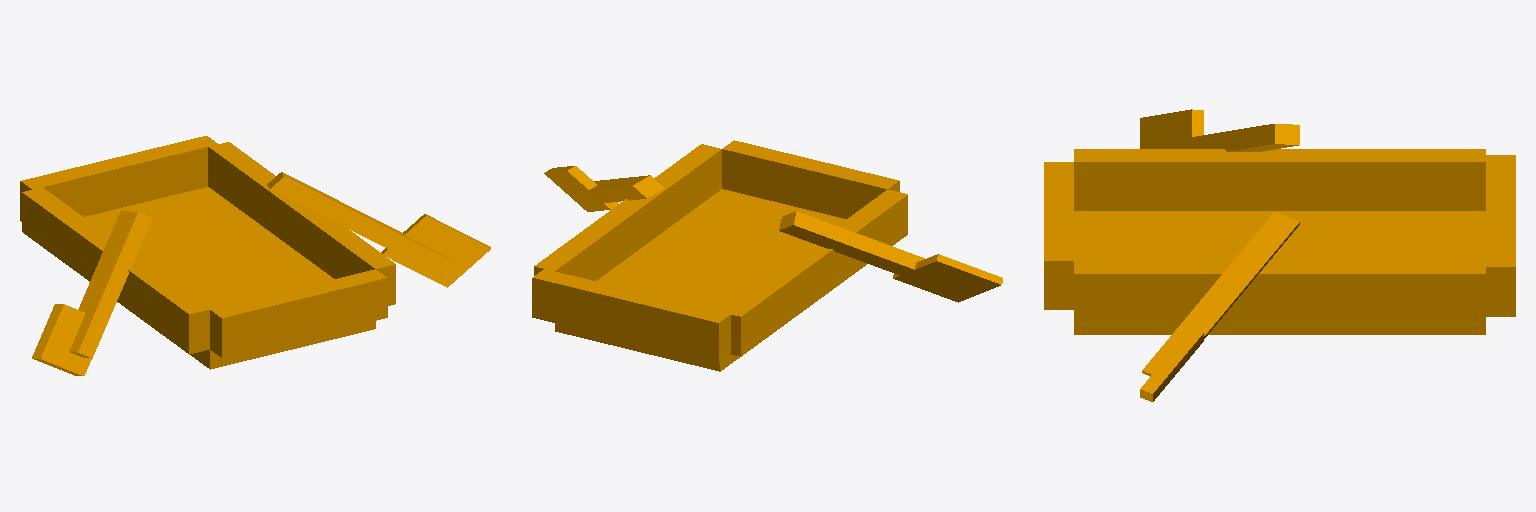
robot.urdf — boat_with_passenger_slots:
<?xml version="1.0"?>
<robot name="boat_with_passenger_slots">
    <link name="base_link">
        <inertial>
            <mass value="1.0"/>
            <inertia ixx="1.0" ixy="0.0" ixz="0.0" iyy="1.0" iyz="0.0" izz="1.0"/>
        </inertial>
        <visual>
            <origin rpy="1.5708 0 0"/>
            <geometry><mesh filename="boat.obj" scale="0.13 0.08 0.13"/></geometry>
        </visual>
        <collision>
            <origin rpy="1.5708 0 0"/>
            <geometry><mesh filename="boat.obj" scale="0.13 0.08 0.13"/></geometry>
        </collision>
    </link>

    <!-- Passenger/Item Slots -->
    <link name="wolf_slot"><inertial><mass value="0.001"/><inertia ixx="0.001" ixy="0.0" ixz="0.0" iyy="0.001" iyz="0.0" izz="0.001"/></inertial></link>
    <link name="sheep_slot"><inertial><mass value="0.001"/><inertia ixx="0.001" ixy="0.0" ixz="0.0" iyy="0.001" iyz="0.0" izz="0.001"/></inertial></link>
    <link name="steve_slot"><inertial><mass value="0.001"/><inertia ixx="0.001" ixy="0.0" ixz="0.0" iyy="0.001" iyz="0.0" izz="0.001"/></inertial></link>
    <link name="grass_slot"><inertial><mass value="0.001"/><inertia ixx="0.001" ixy="0.0" ixz="0.0" iyy="0.001" iyz="0.0" izz="0.001"/></inertial></link>

    <!-- Slot Joints -->
    <joint name="wolf_slot_joint" type="fixed"><parent link="base_link"/><child link="wolf_slot"/><origin xyz="0.02 -0.02 0.02"/></joint>
    <joint name="sheep_slot_joint" type="fixed"><parent link="base_link"/><child link="sheep_slot"/><origin xyz="-0.02 0.02 0.02"/></joint>
    <joint name="steve_slot_joint" type="fixed"><parent link="base_link"/><child link="steve_slot"/><origin xyz="-0.02 -0.02 0.02"/></joint>
    <joint name="grass_slot_joint" type="fixed"><parent link="base_link"/><child link="grass_slot"/><origin xyz="0.02 0.02 0.02"/></joint>
</robot>

--- Facts derived from the render (not from the file) ---
Views: 3 orthographic renders of the robot side by side, from view 1: azimuth 30°, elevation 25°; view 2: azimuth 150°, elevation 25°; view 3: azimuth 270°, elevation 25°.
Model boat_with_passenger_slots with 5 links and 4 joints (4 fixed), rooted at base_link, posed every joint at zero.
Visible links, largest first — view 1: base_link; view 2: base_link; view 3: base_link.
Boxes of the visible links, <box> form: base_link: <box>20,136,490,375</box>; base_link: <box>532,140,1002,371</box>; base_link: <box>1044,109,1515,401</box>.
Size in the robot's own frame: 0.3598 by 0.26 by 0.0754 metres.
1 mesh visuals loaded from 1 distinct referenced files (1 OBJ).
